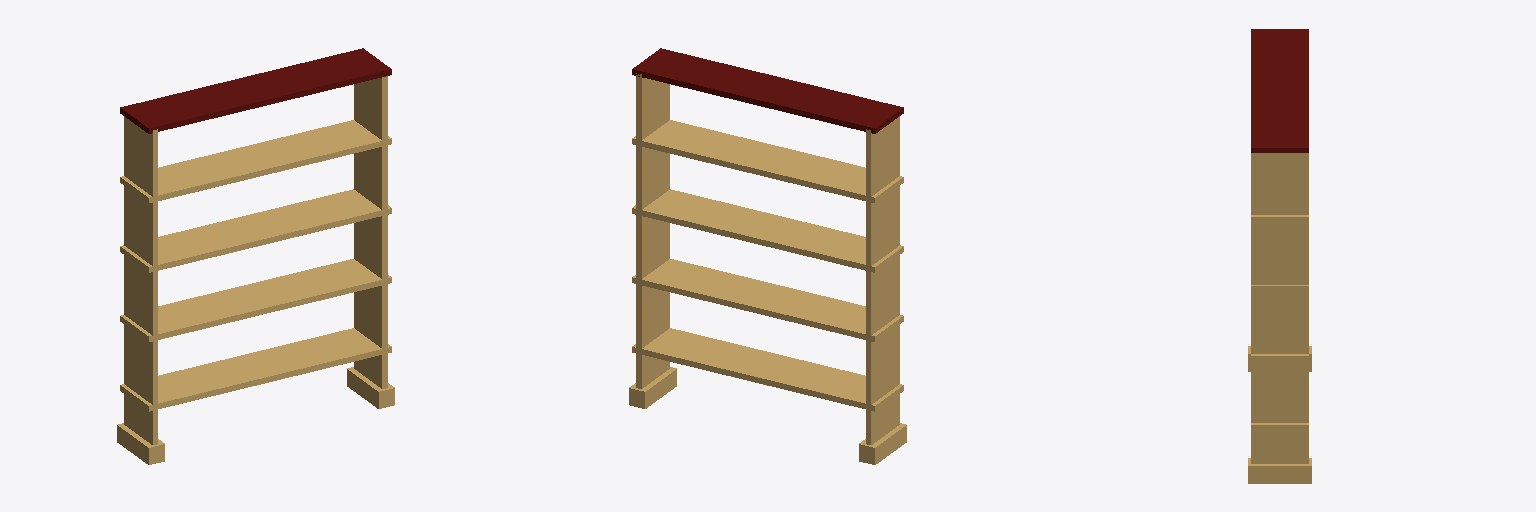
File: book-shelf.obj
3 views of the same model, side by side, from view 1: azimuth 30°, elevation 25°; view 2: azimuth 150°, elevation 25°; view 3: azimuth 270°, elevation 25° (orthographic).
Parts seen in each view (by area): view 1: Side_R, Shelf_1, Side_L, Shelf_2, Shelf_5, Shelf_4, Shelf_3, Foot_R, Foot_L; view 2: Side_R, Shelf_1, Side_L, Shelf_5, Shelf_4, Shelf_3, Shelf_2, Foot_R, Foot_L; view 3: Side_L, Shelf_1, Foot_R.
Boxes of the visible parts, x1,y1,x2,y2 form: Side_R: [124, 116, 157, 444]; Shelf_1: [120, 48, 391, 133]; Side_L: [354, 76, 387, 388]; Shelf_2: [120, 120, 391, 202]; Shelf_5: [120, 328, 391, 411]; Shelf_4: [120, 259, 391, 341]; Shelf_3: [120, 189, 391, 272]; Foot_R: [347, 367, 394, 408]; Foot_L: [117, 423, 164, 464]; Side_R: [866, 116, 899, 444]; Shelf_1: [632, 48, 903, 133]; Side_L: [636, 73, 669, 388]; Shelf_5: [632, 328, 903, 411]; Shelf_4: [632, 259, 903, 341]; Shelf_3: [632, 189, 903, 272]; Shelf_2: [632, 120, 903, 202]; Foot_R: [629, 367, 676, 408]; Foot_L: [859, 423, 906, 464]; Side_L: [1251, 153, 1308, 463]; Shelf_1: [1251, 29, 1308, 152]; Foot_R: [1248, 458, 1311, 483].
Size of the model in its own units: 112 by 145 by 25.